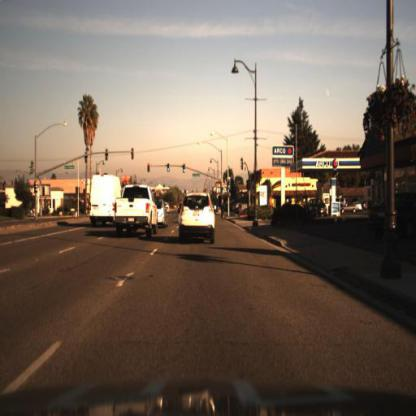biker: (218, 189, 228, 226)
car: (114, 181, 160, 244), (89, 176, 126, 233), (178, 193, 217, 244), (305, 200, 328, 227), (309, 196, 329, 220), (157, 198, 170, 229)
trafficLight-Green: (226, 175, 233, 193), (181, 160, 188, 175), (168, 160, 174, 175), (222, 184, 228, 197)
trafficLight-RedLeft: (146, 162, 152, 176)
truck: (89, 173, 127, 228)
